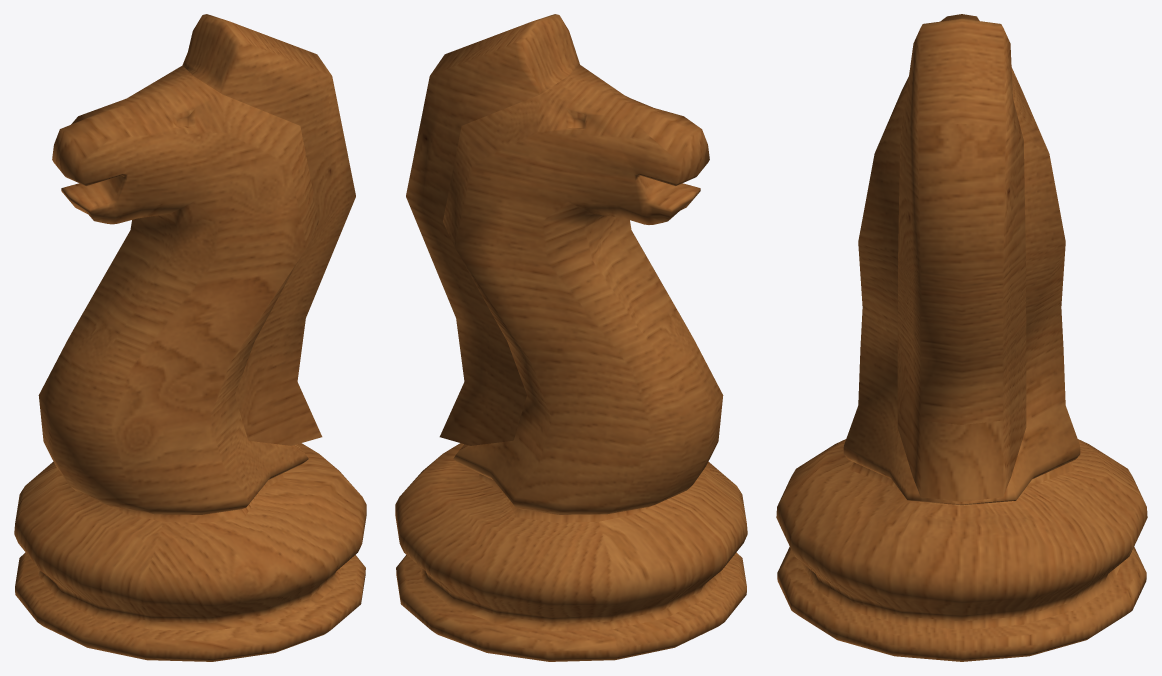
File: SM_WhiteKnight.fbx
3 views of the same model, side by side, from view 1: azimuth 30°, elevation 25°; view 2: azimuth 150°, elevation 25°; view 3: azimuth 270°, elevation 25° (orthographic). The views are drawn at different scales.
Parts seen in each view (by area): view 1: SM_WhiteKnight; view 2: SM_WhiteKnight; view 3: SM_WhiteKnight.
Part boxes in pixels (x1,y1,x2,y2): SM_WhiteKnight: [14, 14, 366, 661]; SM_WhiteKnight: [395, 14, 747, 661]; SM_WhiteKnight: [776, 14, 1147, 661].
Size of the model in its own units: 7.87 by 13.83 by 7.88.
